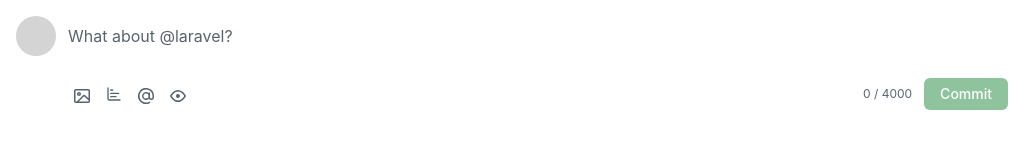
Test: Composer › previews the commit from the eye in its toolbar, as dev-null.sh does
In the text box with placeholder "What about @laravel?": (538, 40) [68,16,1008,64], type "Run `npm i`"
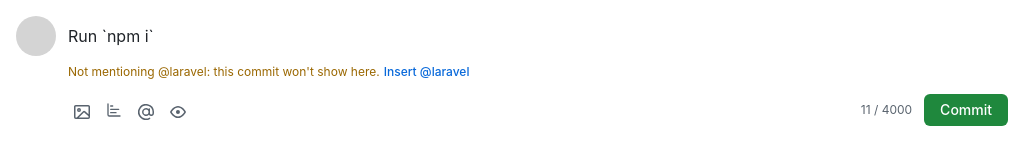
Expected: the icon with class "octicon-eye" is shown, [170,104,186,120]
Click the button named "Preview": click(178, 110) [164,92,192,128]
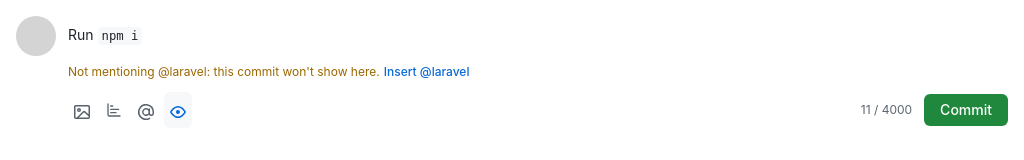
Result: the text box is gone
Result: the text "npm i" is shown at [98,27,142,45]
Click the button named "Preview": click(178, 110) [164,92,192,128]
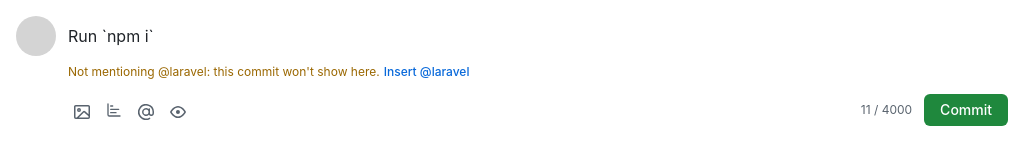
Result: the text box holds "Run `npm i`" at [68,16,1008,64]
